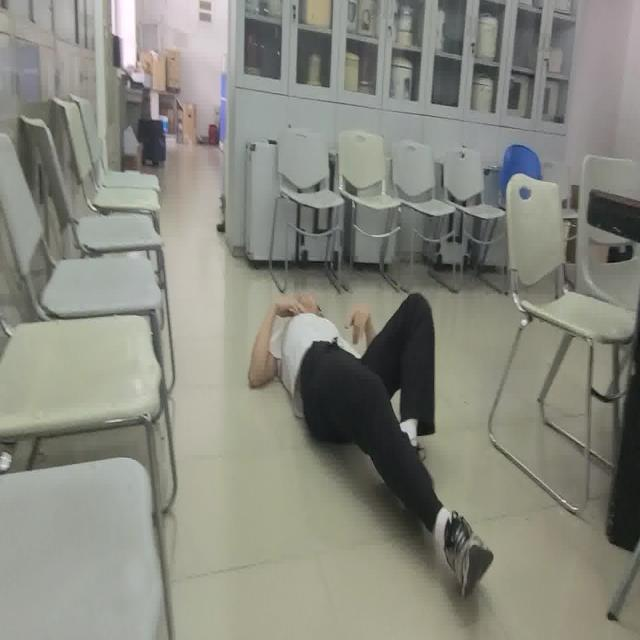Fall-Detected: (246, 286, 496, 596)
